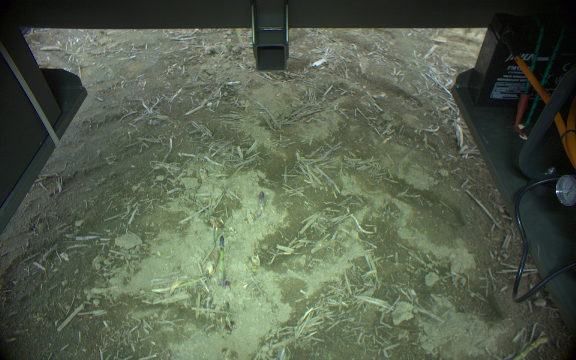aspa: (217, 233, 228, 285), (256, 190, 266, 217)
